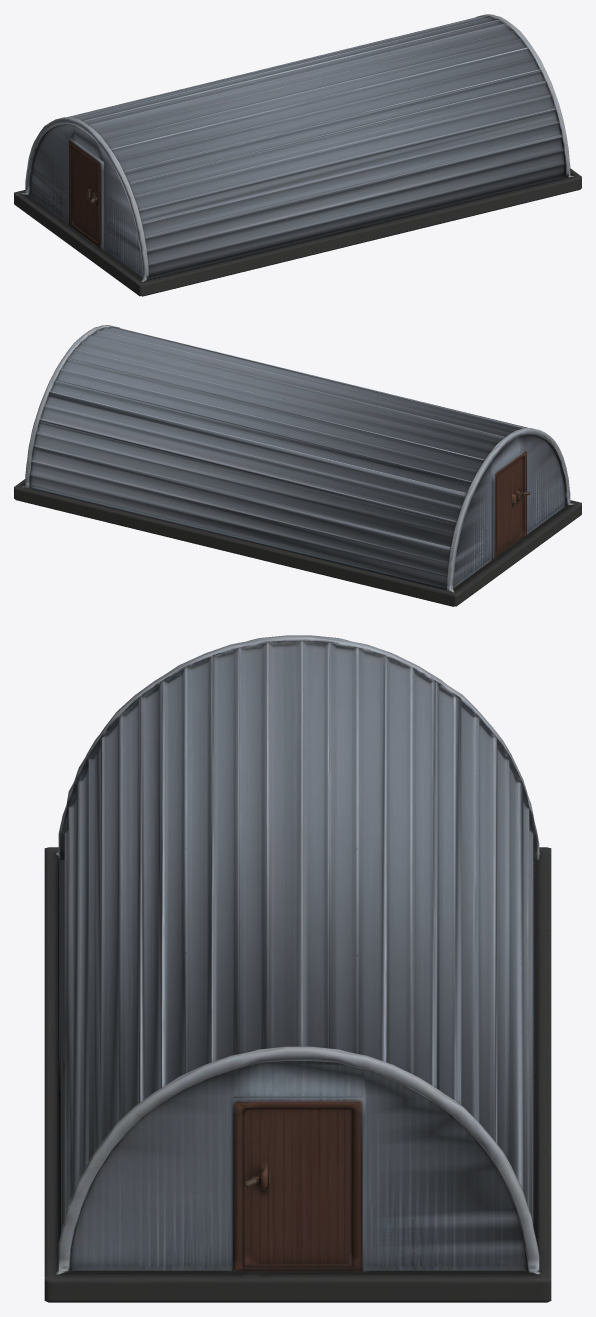
File: nissen-hut-tripo-original.glb
3 views of the same model, one above another, from view 1: azimuth 30°, elevation 25°; view 2: azimuth 150°, elevation 25°; view 3: azimuth 270°, elevation 25° (orthographic). The views are drawn at different scales.
Parts seen in each view (by area): view 1: tripo_node_ea5ddd22-5a22-4a02-a124-4d909f669928; view 2: tripo_node_ea5ddd22-5a22-4a02-a124-4d909f669928; view 3: tripo_node_ea5ddd22-5a22-4a02-a124-4d909f669928.
Part boxes in pixels (x1,y1,x2,y2): tripo_node_ea5ddd22-5a22-4a02-a124-4d909f669928: [14, 14, 581, 296]; tripo_node_ea5ddd22-5a22-4a02-a124-4d909f669928: [14, 325, 581, 606]; tripo_node_ea5ddd22-5a22-4a02-a124-4d909f669928: [44, 635, 551, 1302].
Bounding box in the file's own units: 1 × 0.2642 × 0.4951.
Materials: 1 (1 with a texture image).
